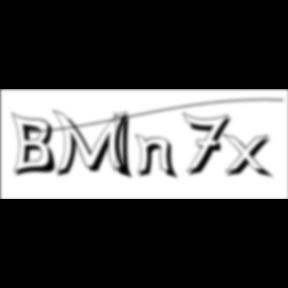7: (182, 111, 237, 179)
B: (12, 111, 62, 179)
I: (114, 110, 138, 182)
M: (52, 108, 136, 181)
n: (135, 132, 182, 181)
x: (222, 132, 278, 181)
